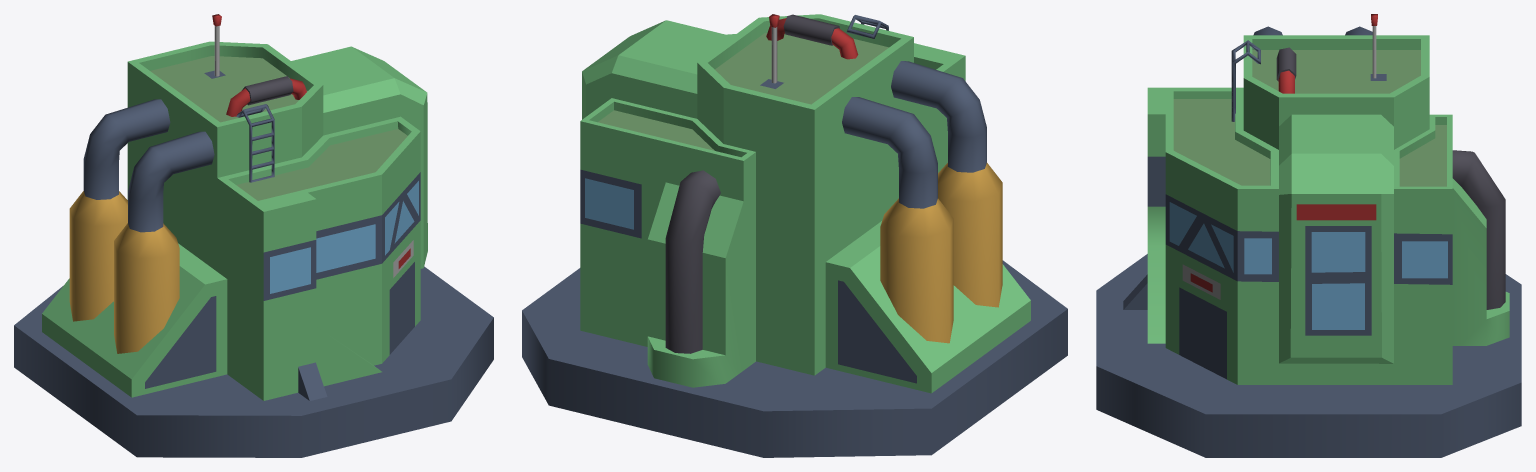
File: Building2.fbx
The picture shows the model from 3 angles, left to right: view 1: azimuth 30°, elevation 25°; view 2: azimuth 150°, elevation 25°; view 3: azimuth 270°, elevation 25°; orthographic projection. The views are drawn at different scales.
Parts seen in each view (by area): view 1: wBox.014; view 2: wBox.014; view 3: wBox.014.
Part boxes in pixels (x1,y1,x2,y2): wBox.014: [14, 14, 493, 457]; wBox.014: [522, 14, 1067, 457]; wBox.014: [1096, 14, 1521, 457].
Size of the model in its own units: 183 by 157 by 176.
